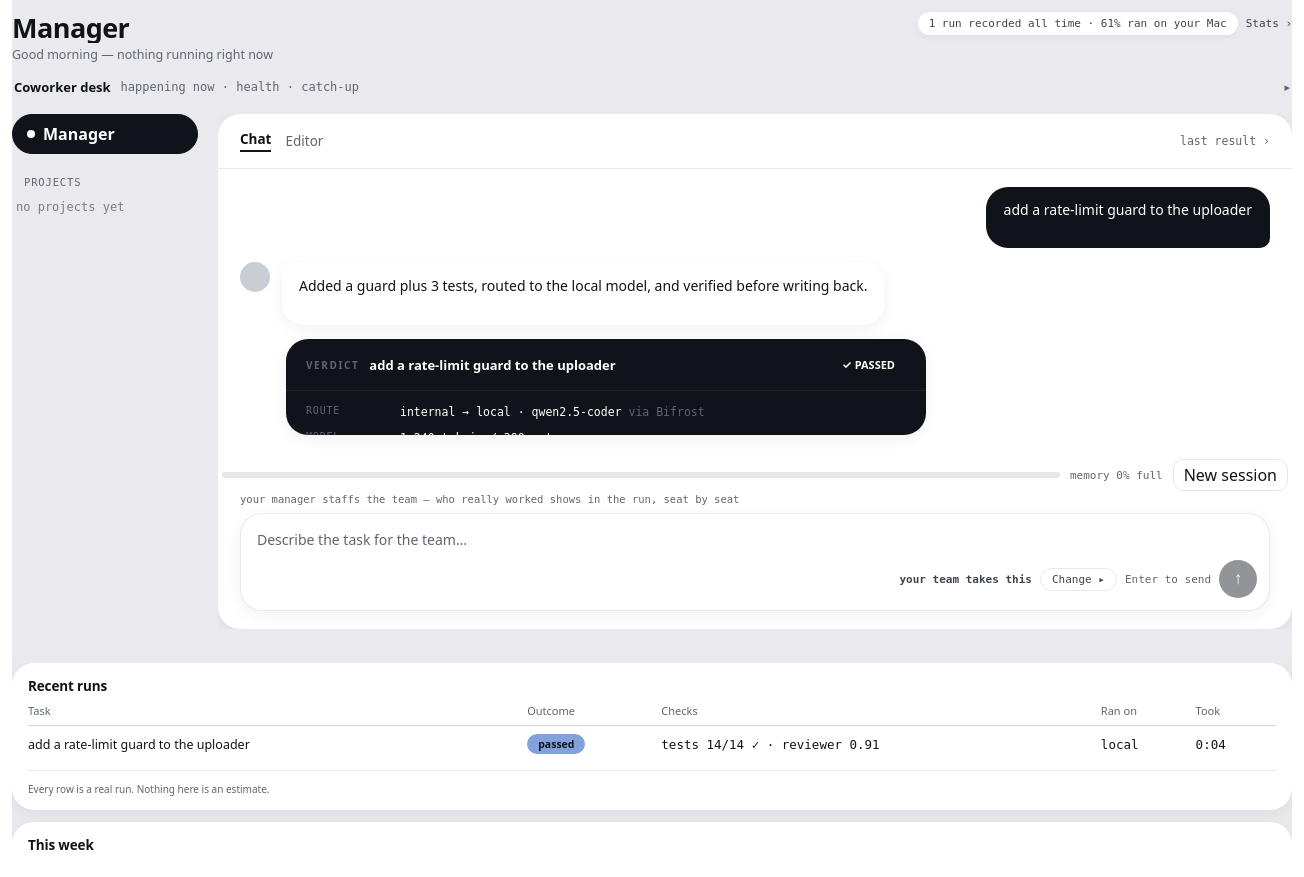
the routing line — a choice AND its reason, never a silent pick › names who takes it and why, as soon as something is typed
This screenshot has width=1304, height=877.
Type "write the launch note" into the text box labelled "Describe the task for the team…" at (757, 540), box left=257, top=526, right=1257, bottom=554
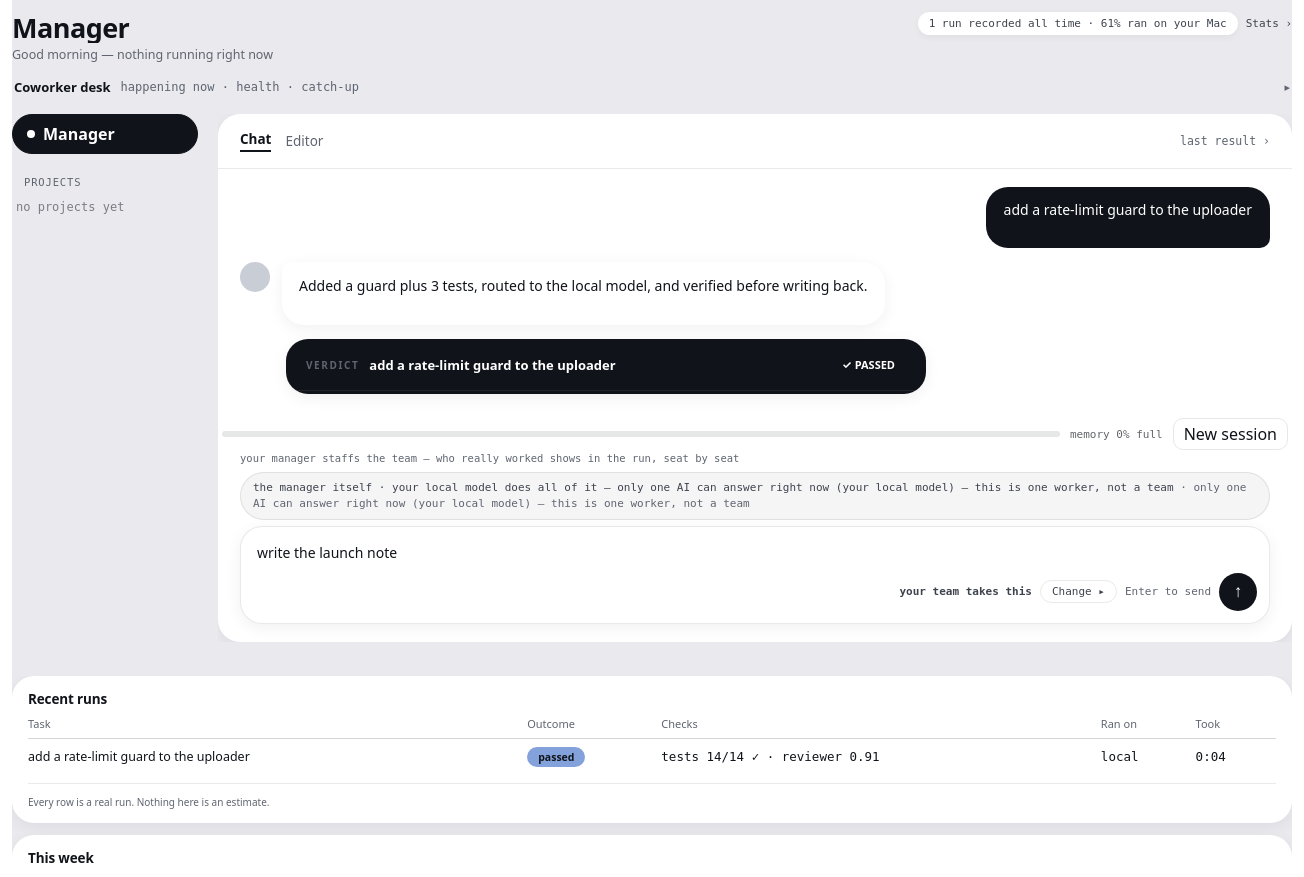
Expected: the element named "Who takes this, and why" shows "your local model", left=253, top=481, right=1174, bottom=494
